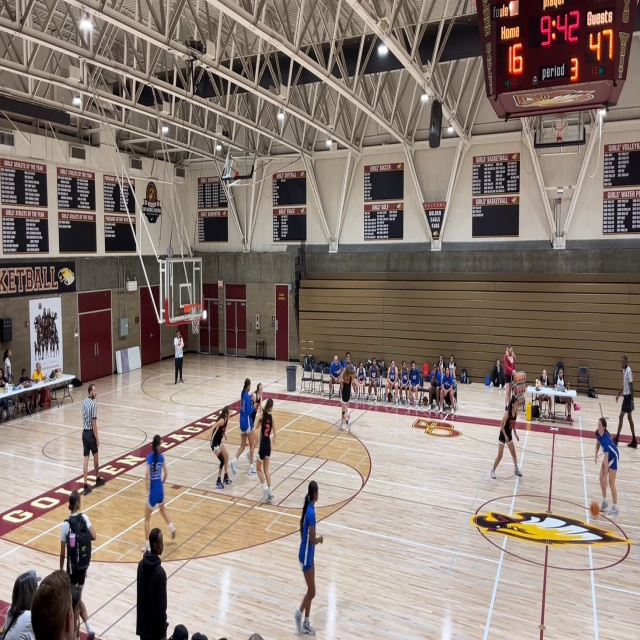Basketball: (590, 501, 600, 515)
